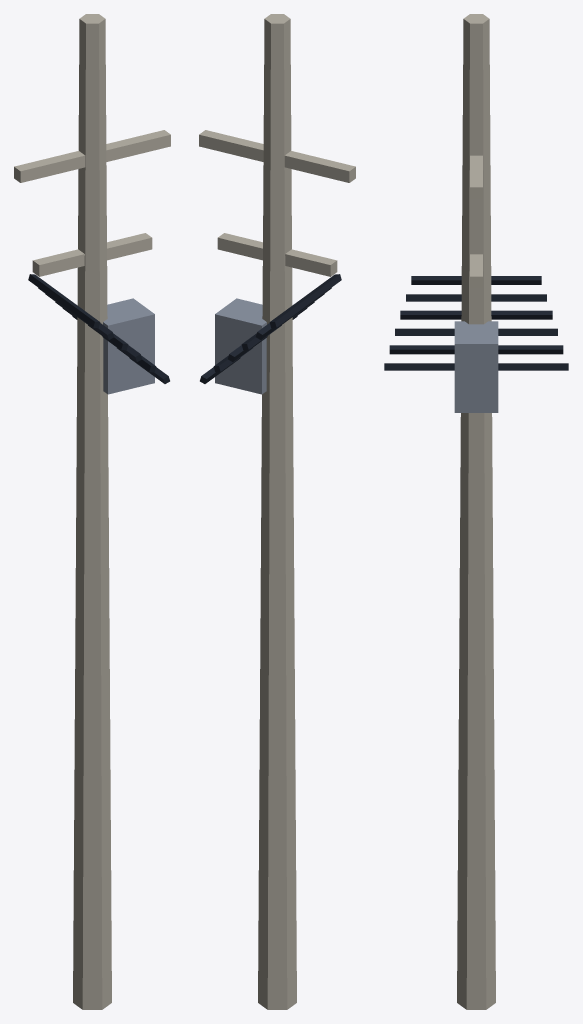
Rendered from power_pole.glb.
The picture shows the model from 3 angles, left to right: view 1: azimuth 30°, elevation 25°; view 2: azimuth 150°, elevation 25°; view 3: azimuth 270°, elevation 25°; orthographic projection.
Visible parts, largest first — view 1: pole; view 2: pole; view 3: pole.
Boxes of the visible parts, <box> form: pole: <box>14,14,170,1009</box>; pole: <box>199,14,355,1009</box>; pole: <box>384,14,568,1009</box>.
Bounding box in the file's own units: 1.6 × 10 × 1.7.
